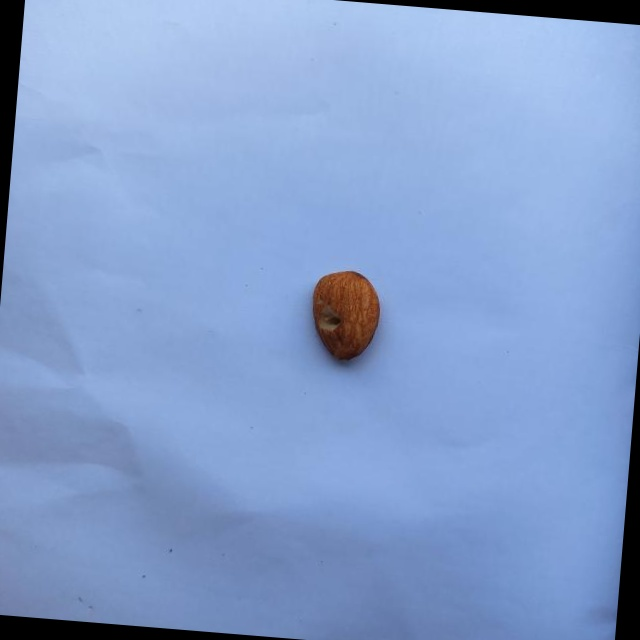grade3: (303, 264, 385, 368)
